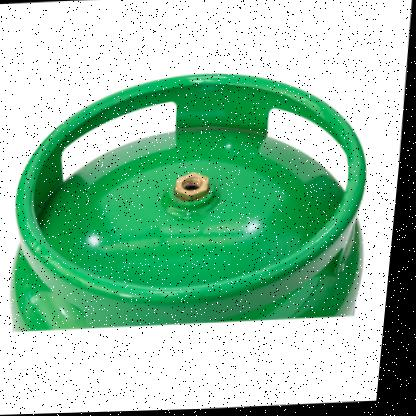gas-tank: (0, 50, 406, 360)
